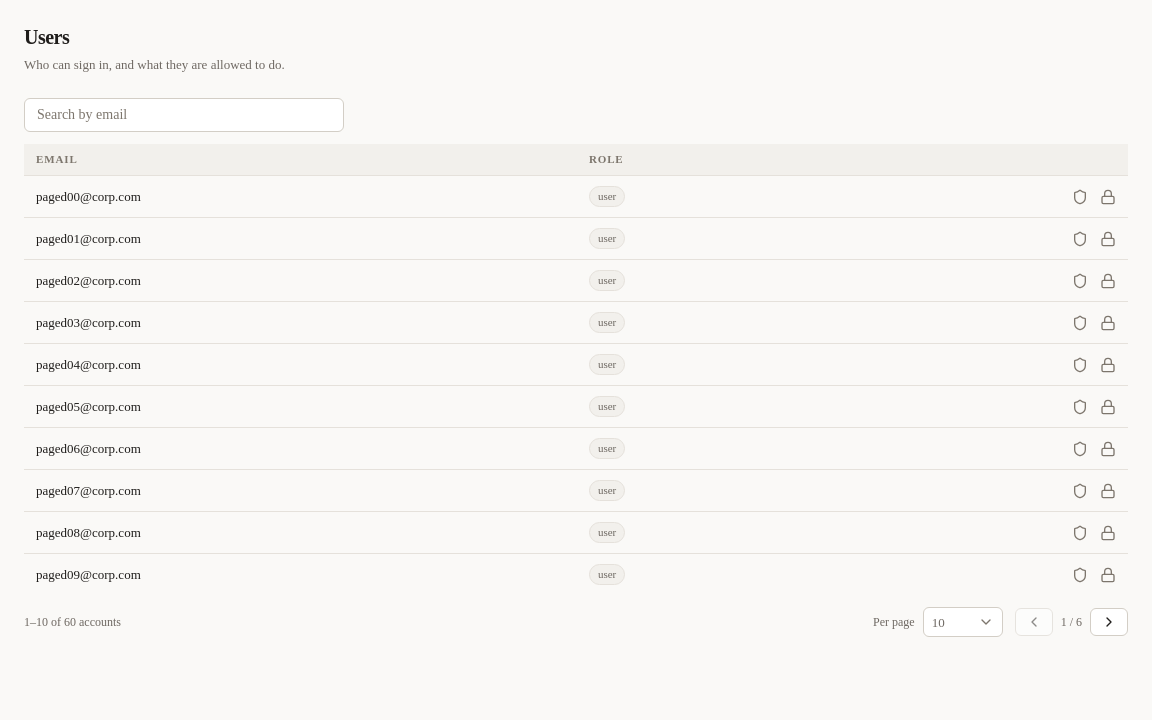
Test: UsersManager › pagination › cannot strand the admin on an empty page when a search shortens the list
This screenshot has width=1152, height=720.
Click the button named "Next page" at (1109, 622), box [1090,608,1128,636]
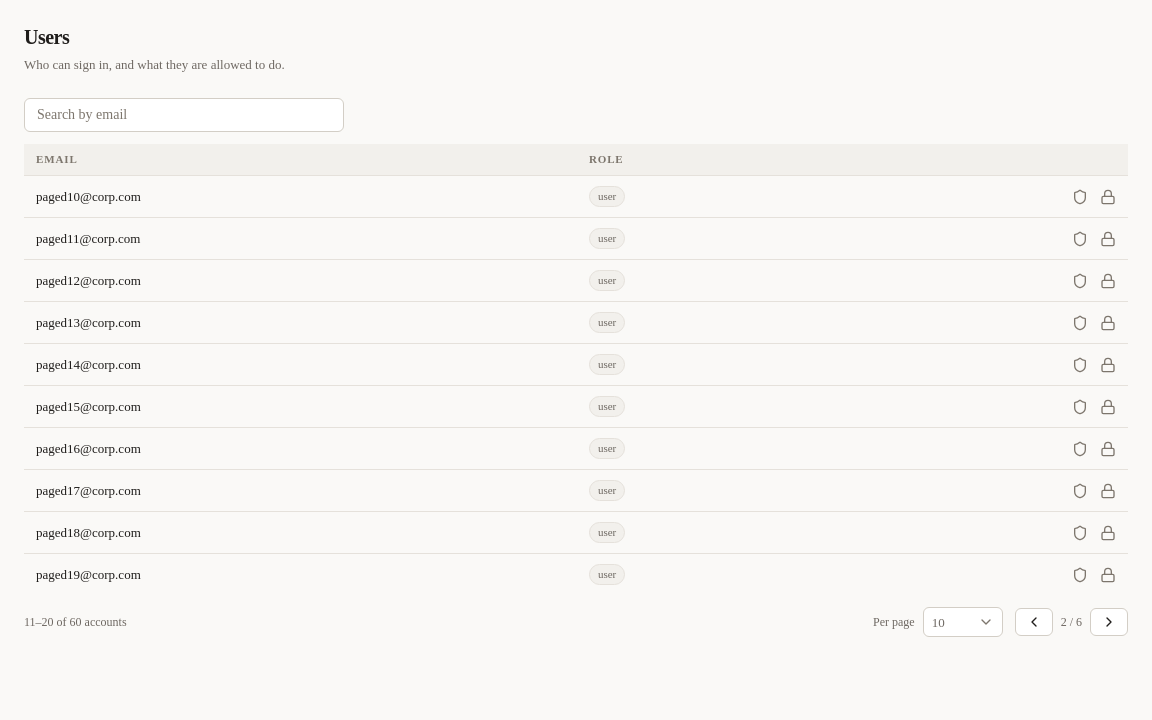
Type "paged01" into the field named "Search accounts" at (184, 115), box [24,98,344,132]
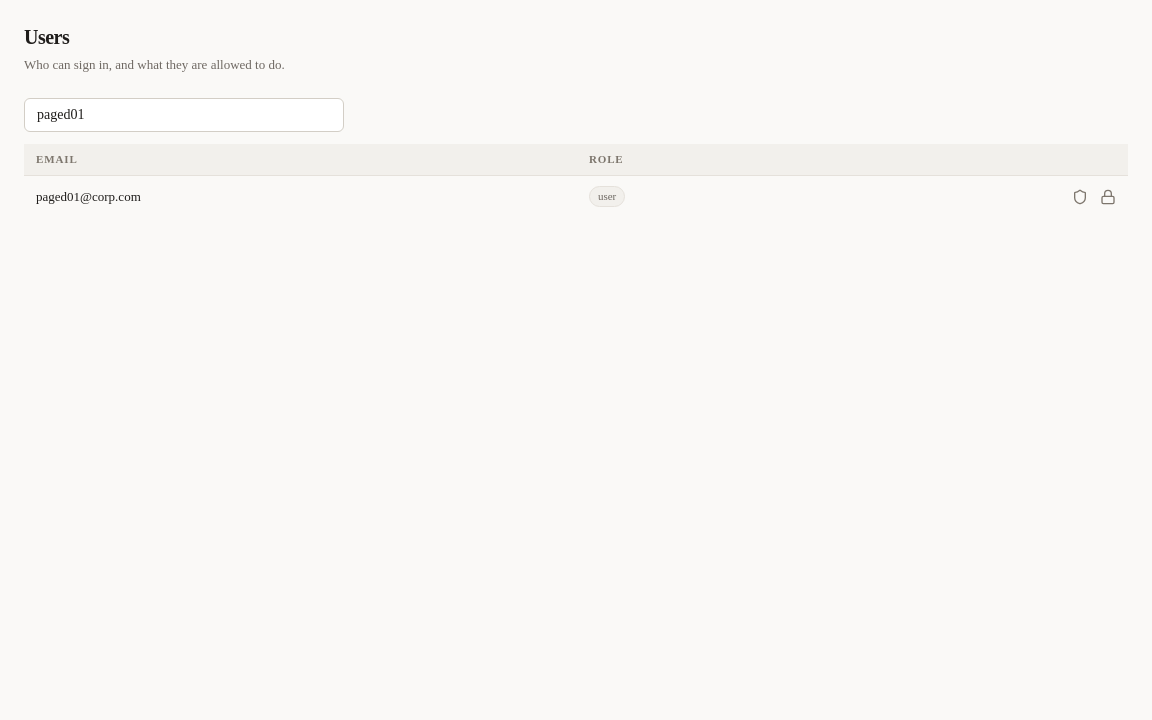
Check: the text "paged01@corp.com" is shown, box [36,189,141,204]
